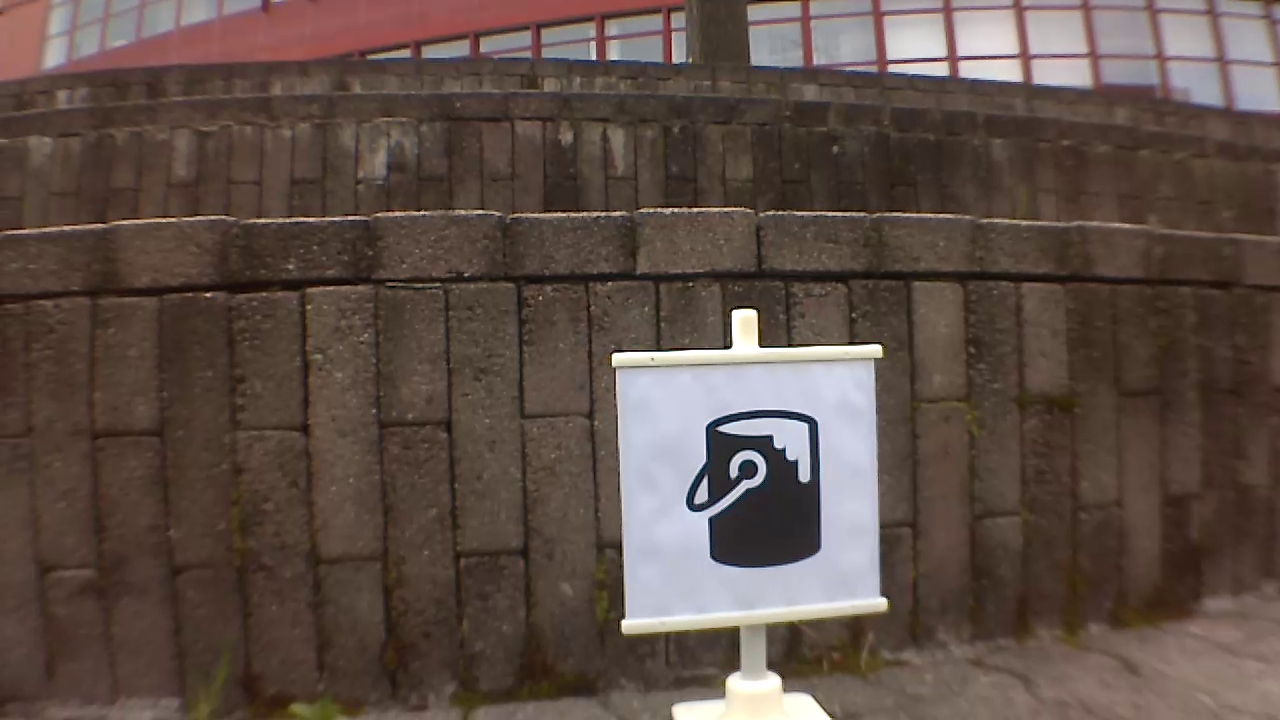bucket: (676, 410, 824, 571)
